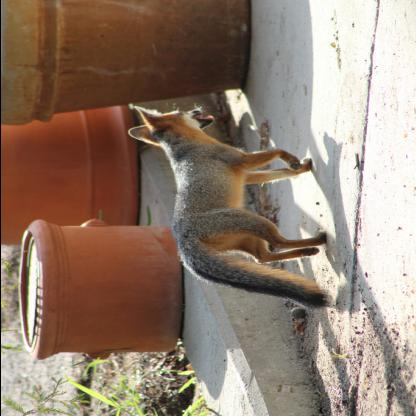zorro: (124, 102, 333, 310)
